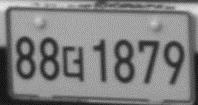1: (91, 38, 108, 84)
7: (136, 39, 159, 84)
8: (112, 38, 135, 85), (14, 34, 36, 79), (39, 37, 59, 81)
9: (162, 39, 185, 86)
더: (62, 45, 85, 82)
